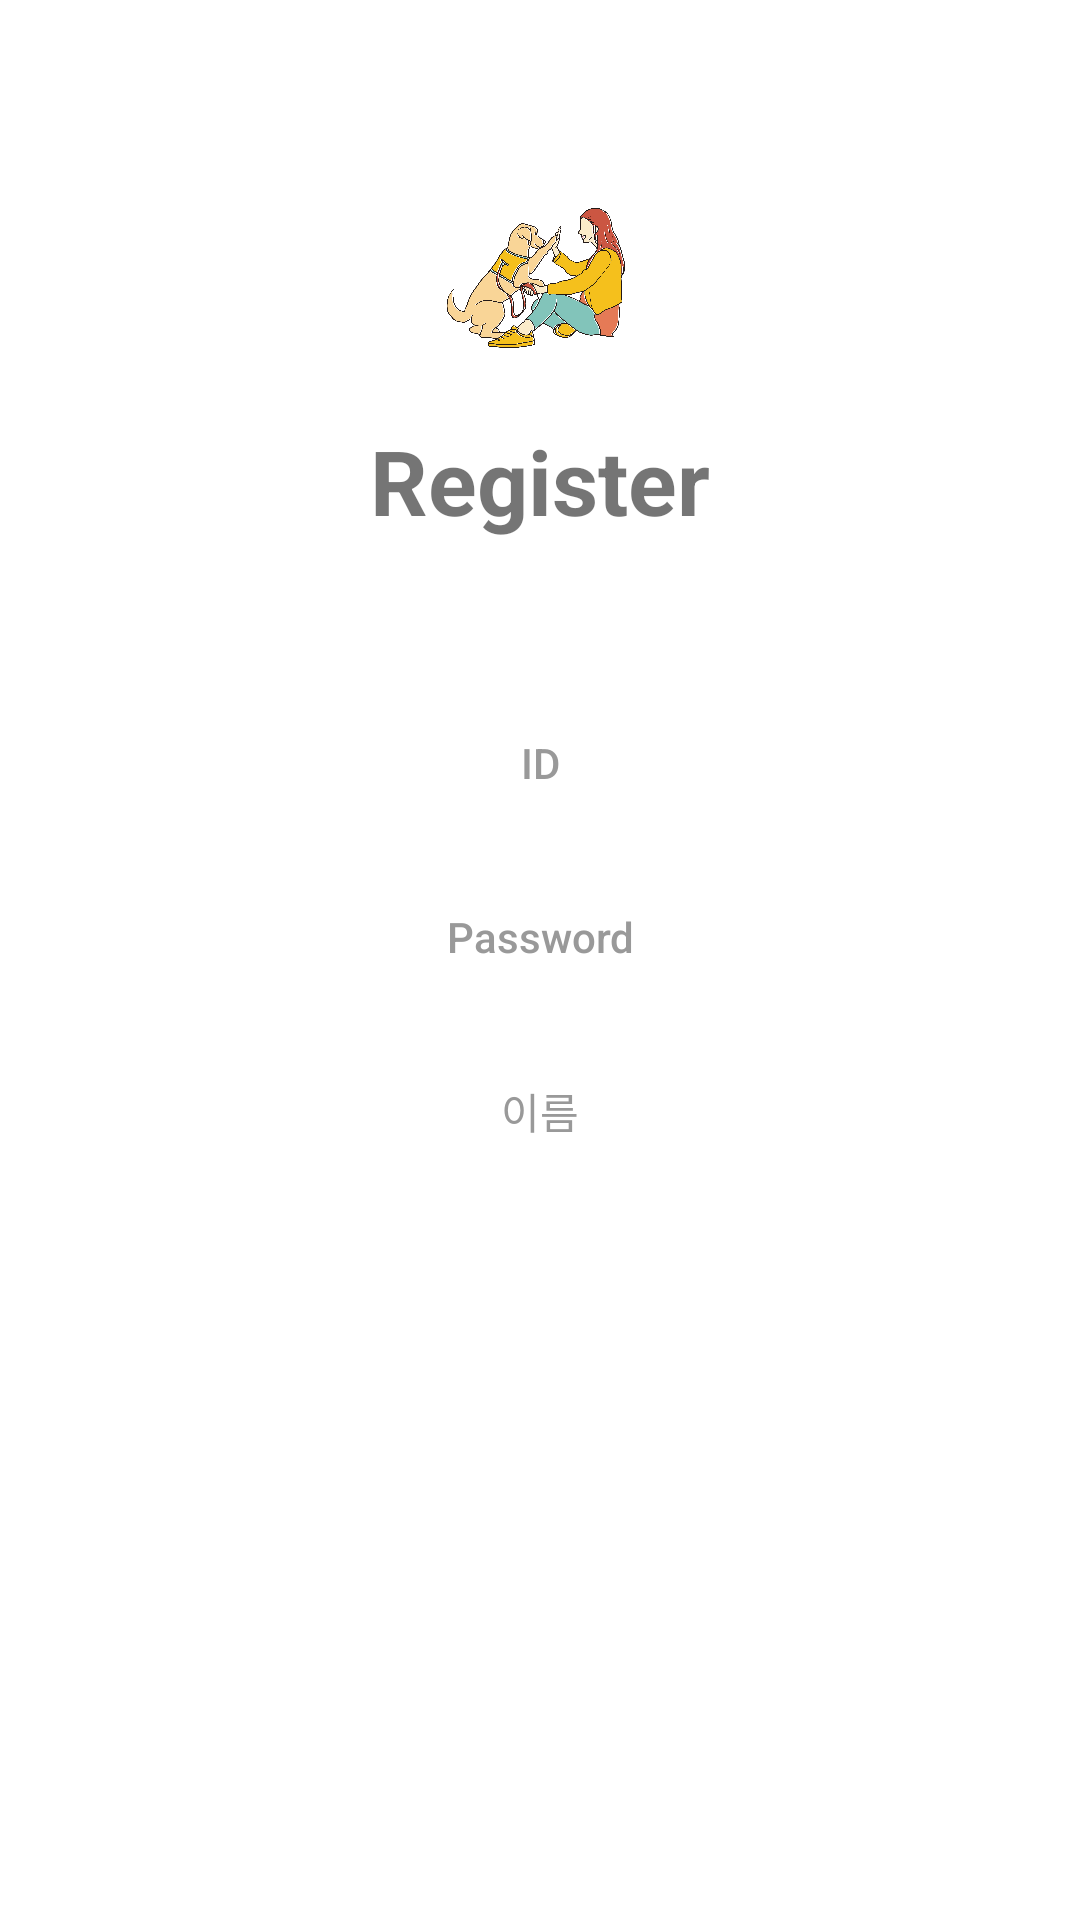

Screen size 1080 x 1920. Icon name, then its box in pixels as rect(x1, y1, x2, y2):
mainpicture: rect(447, 208, 625, 348)
